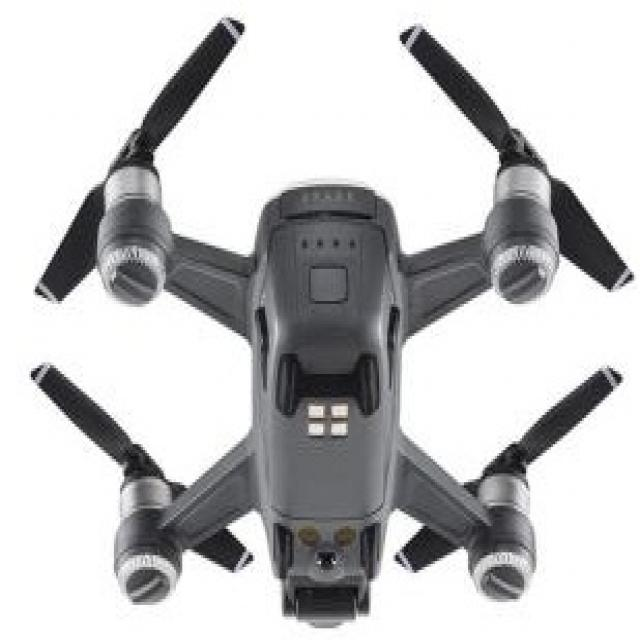drone: (15, 6, 636, 632)
